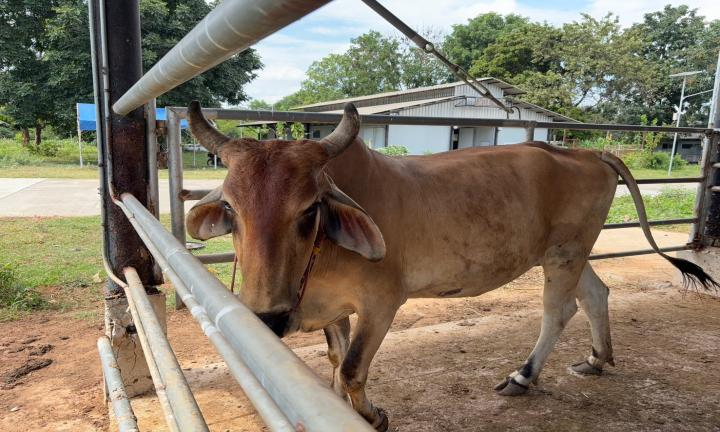Brahman: (187, 101, 660, 430)
